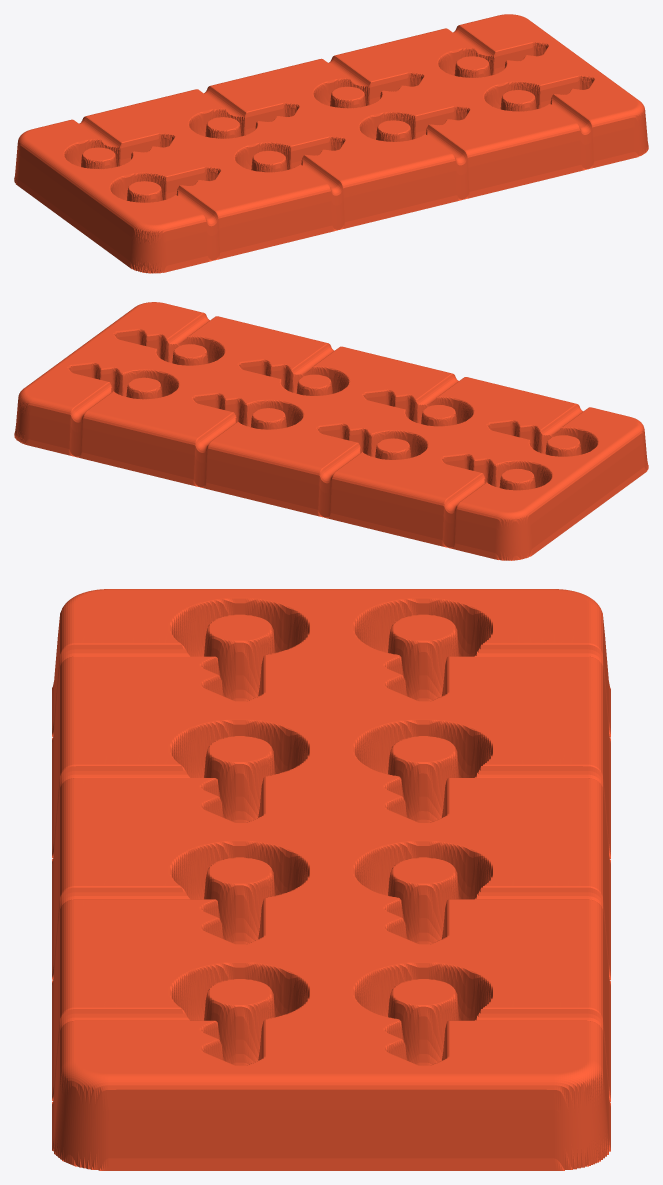
File: mold.glb
The picture shows the model from 3 angles, top to bottom: view 1: azimuth 30°, elevation 25°; view 2: azimuth 150°, elevation 25°; view 3: azimuth 270°, elevation 25°; orthographic projection. The views are drawn at different scales.
Parts seen in each view (by area): view 1: geometry_0; view 2: geometry_0; view 3: geometry_0.
Boxes of the visible parts, left/top/right/bottom form: geometry_0: left=14, top=14, right=648, bottom=273; geometry_0: left=14, top=302, right=648, bottom=560; geometry_0: left=52, top=589, right=610, bottom=1170.
Size of the model in its own units: 0.1907 by 0.0155 by 0.0896.
